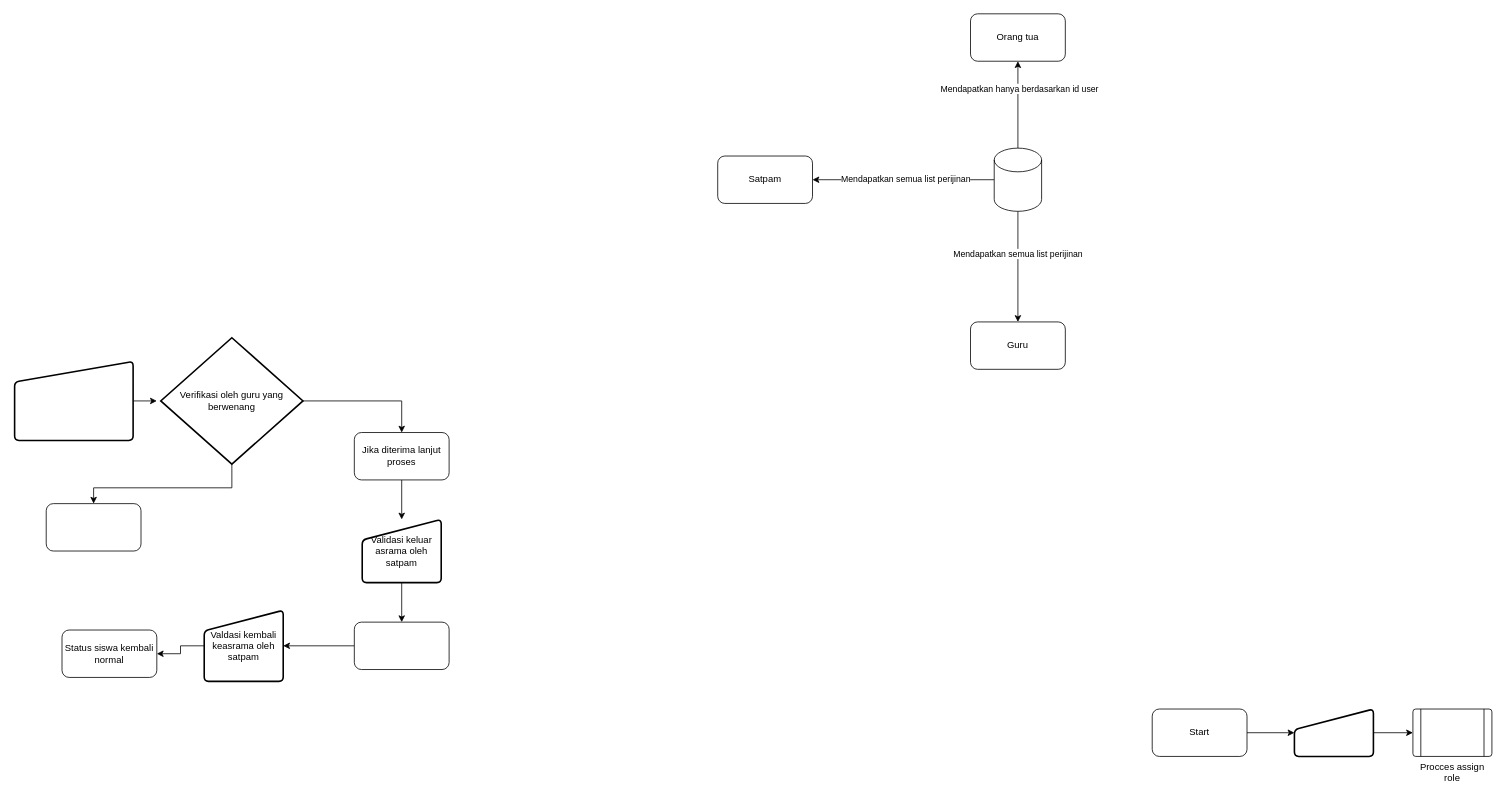
This 1506x799 diagram has some shape labels left out. Each missing label, with the centre of its shape:
Create account: (x=1333, y=732)
Jika di tolak langsung selesai dengan alasan: (x=93, y=527)
Pengajuan Izin pulang oleh wali: (x=73, y=400)
Perijinan: (x=1017, y=179)
Status siswa sedang pulang: (x=401, y=645)
